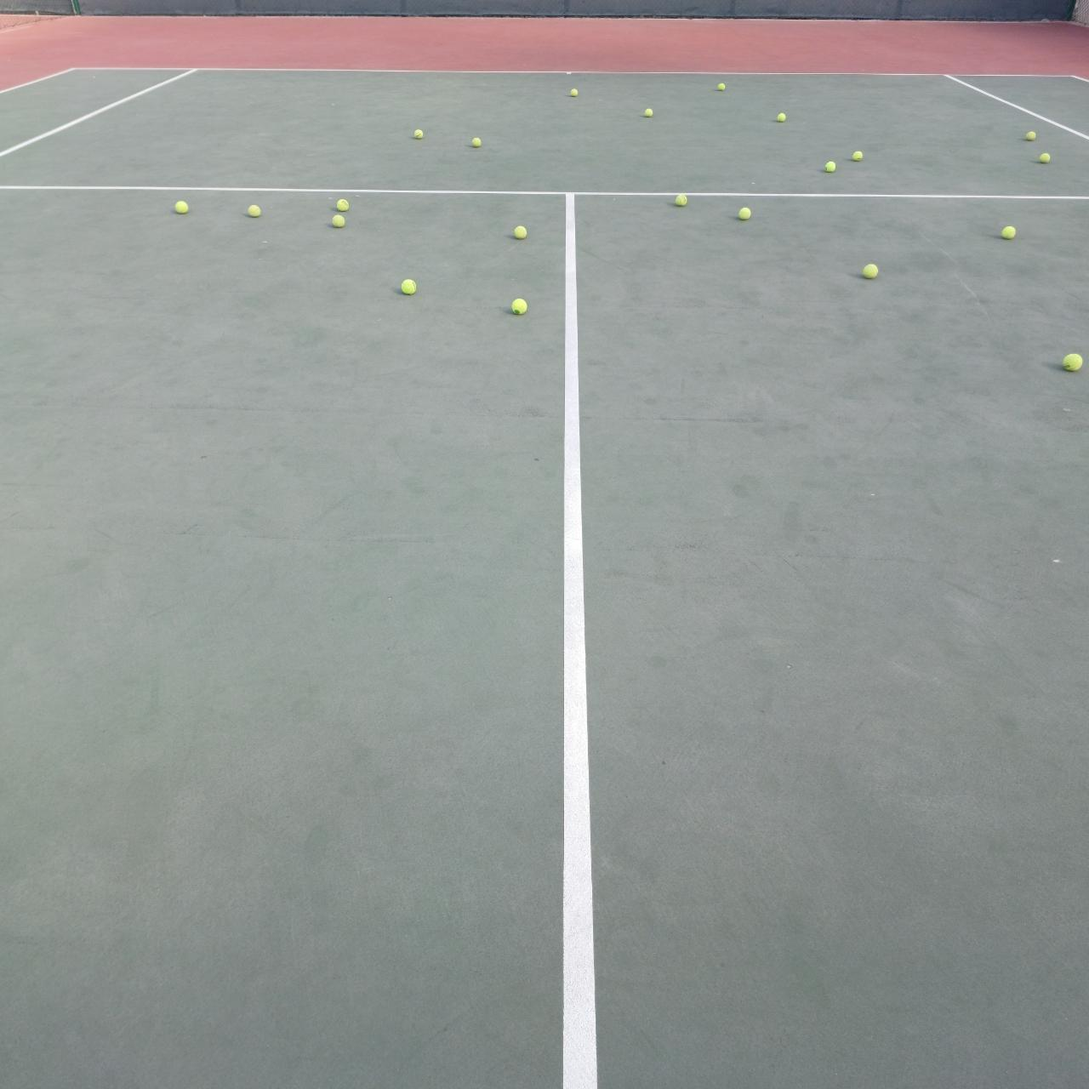tennis-ball: (1061, 351, 1082, 371), (510, 296, 528, 315), (399, 277, 416, 294), (862, 262, 879, 279), (173, 198, 189, 214), (513, 225, 527, 239), (738, 206, 751, 221), (1001, 226, 1016, 239), (248, 205, 261, 218), (332, 215, 345, 228), (336, 199, 349, 212), (675, 194, 688, 207), (825, 161, 836, 172), (852, 151, 863, 162), (1039, 152, 1050, 163), (472, 137, 482, 148), (1025, 131, 1036, 141), (413, 129, 423, 139), (644, 108, 653, 117), (777, 113, 786, 122), (570, 88, 578, 97), (717, 83, 726, 91)
